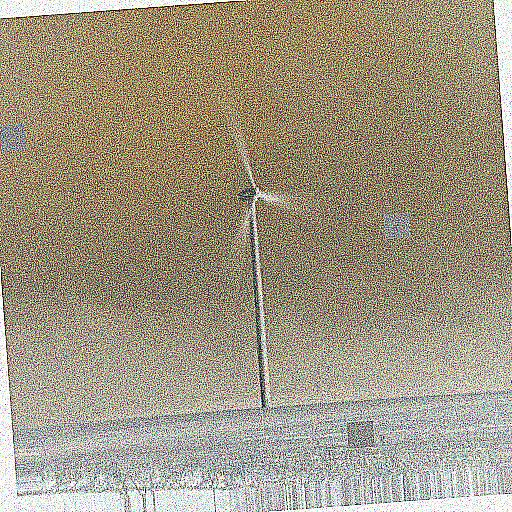wind turbine: (224, 102, 300, 407)
